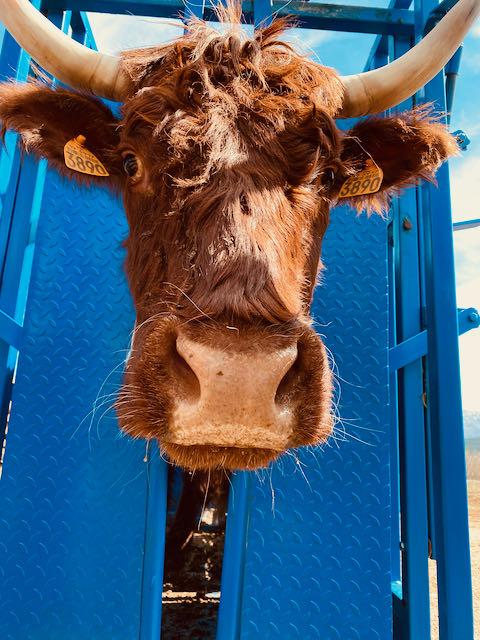muzzles: (112, 308, 342, 477)
